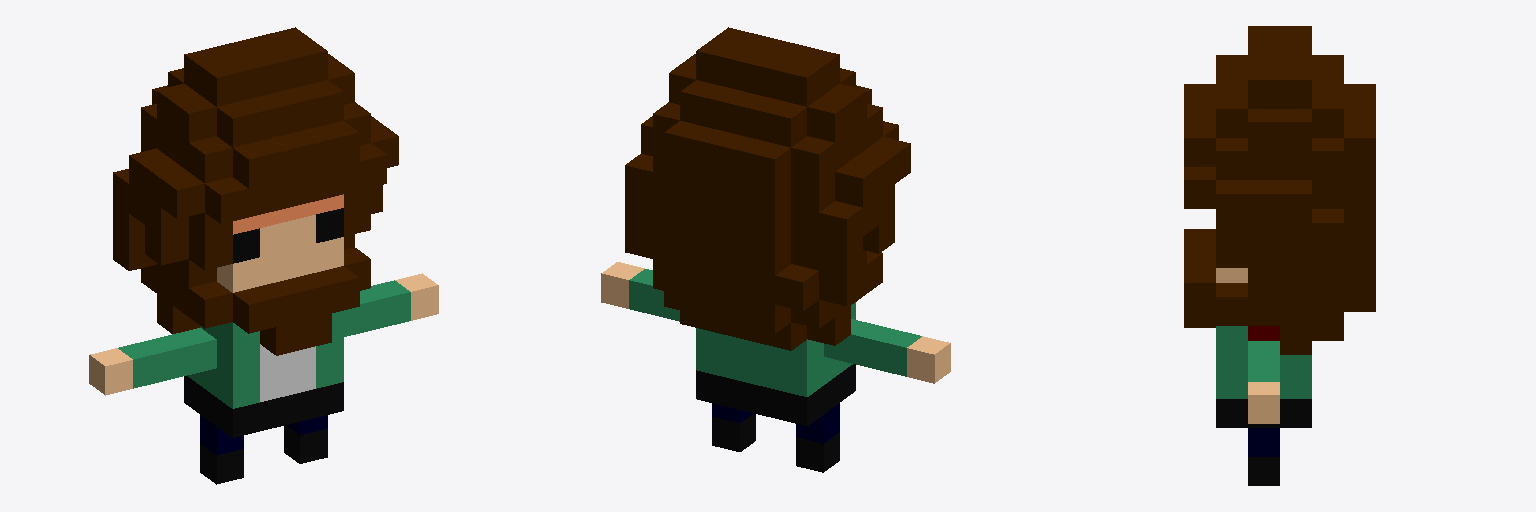
The picture shows the model from 3 angles: view 1: azimuth 30°, elevation 25°; view 2: azimuth 150°, elevation 25°; view 3: azimuth 270°, elevation 25°; orthographic projection.
Visible parts, largest first — view 1: object 1; view 2: object 1; view 3: object 1.
Part boxes in pixels (left/top/right/bottom): object 1: left=89, top=27, right=438, bottom=484; object 1: left=601, top=27, right=950, bottom=472; object 1: left=1184, top=26, right=1375, bottom=485.
Bounding box in the file's own units: 1.2 × 1.4 × 0.6.
Materials: 1 (1 with a texture image).